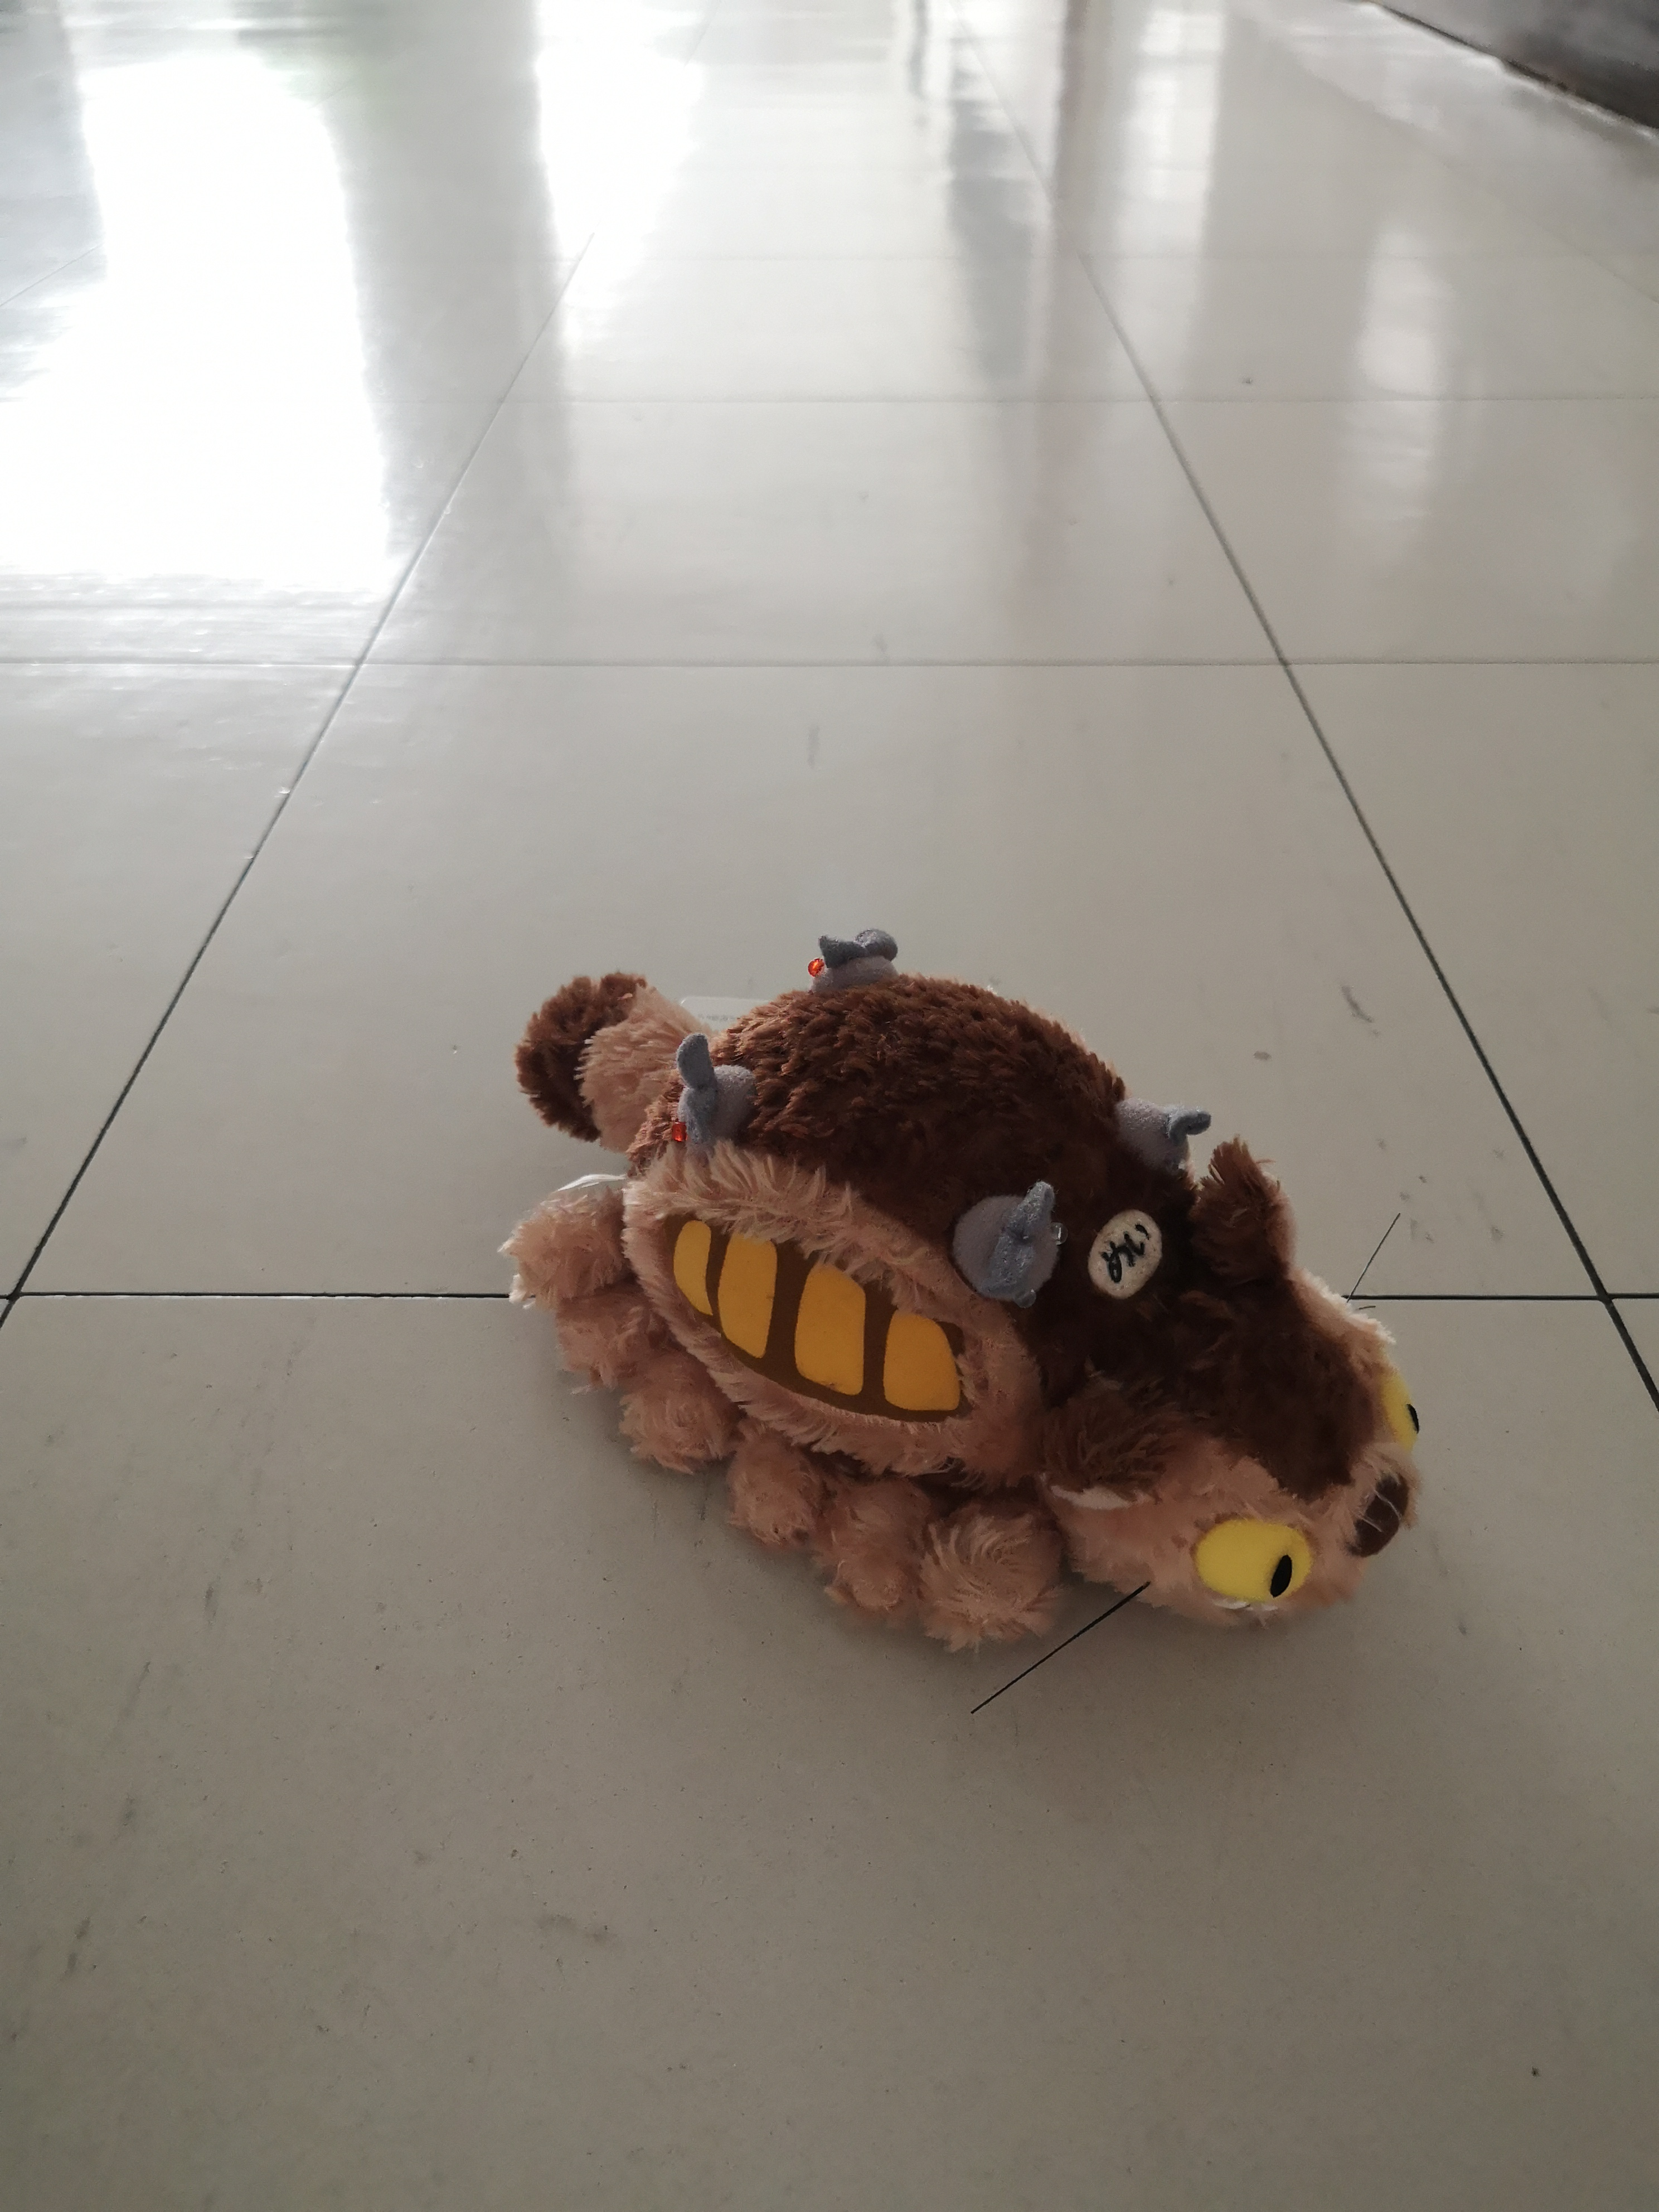nekobus: (488, 918, 1439, 1686)
